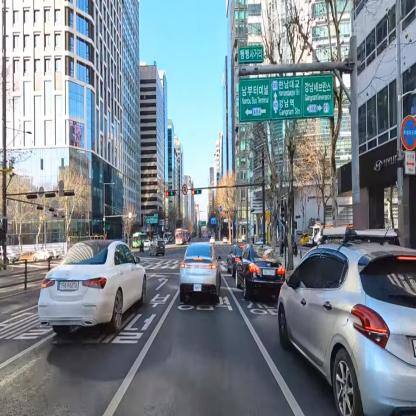Red left: (165, 190, 176, 198), (192, 189, 202, 196)
